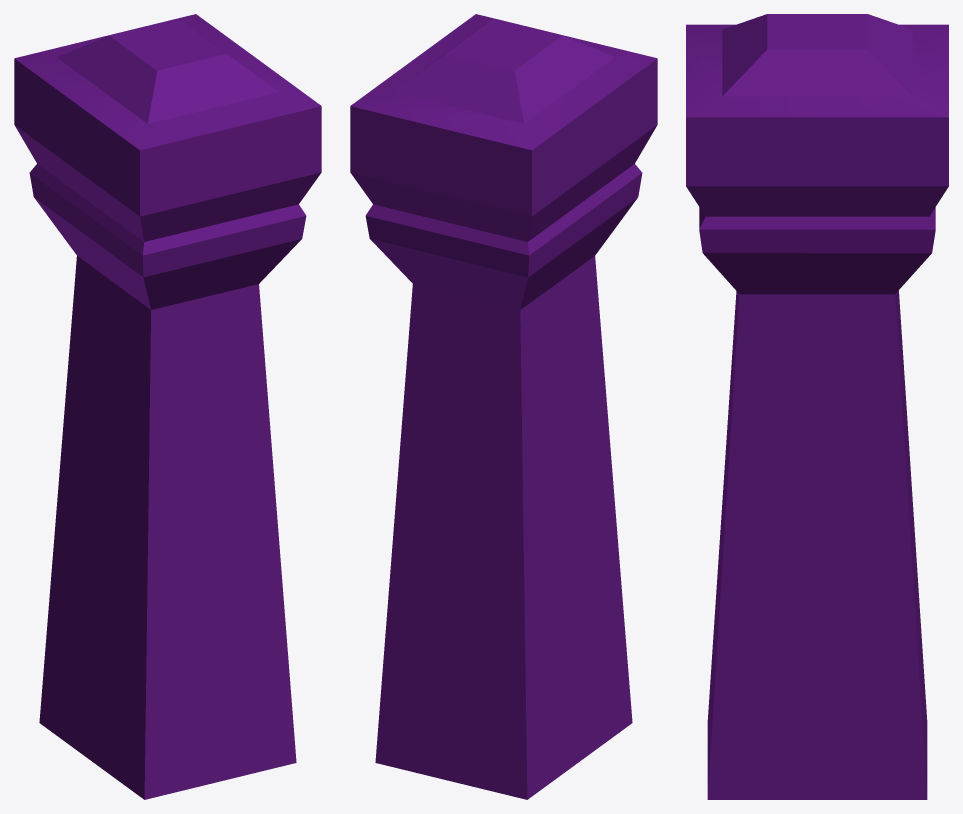
File: bollard3.FBX
The picture shows the model from 3 angles, left to right: view 1: azimuth 30°, elevation 25°; view 2: azimuth 150°, elevation 25°; view 3: azimuth 270°, elevation 25°; orthographic projection. The views are drawn at different scales.
Visible parts, largest first — view 1: Object002; view 2: Object002; view 3: Object002.
Boxes of the visible parts, x1,y1,x2,y2 form: Object002: (14,14,321,799); Object002: (350,14,657,799); Object002: (686,14,948,799).
Size of the model in its own units: 29.49 by 108 by 35.34.
